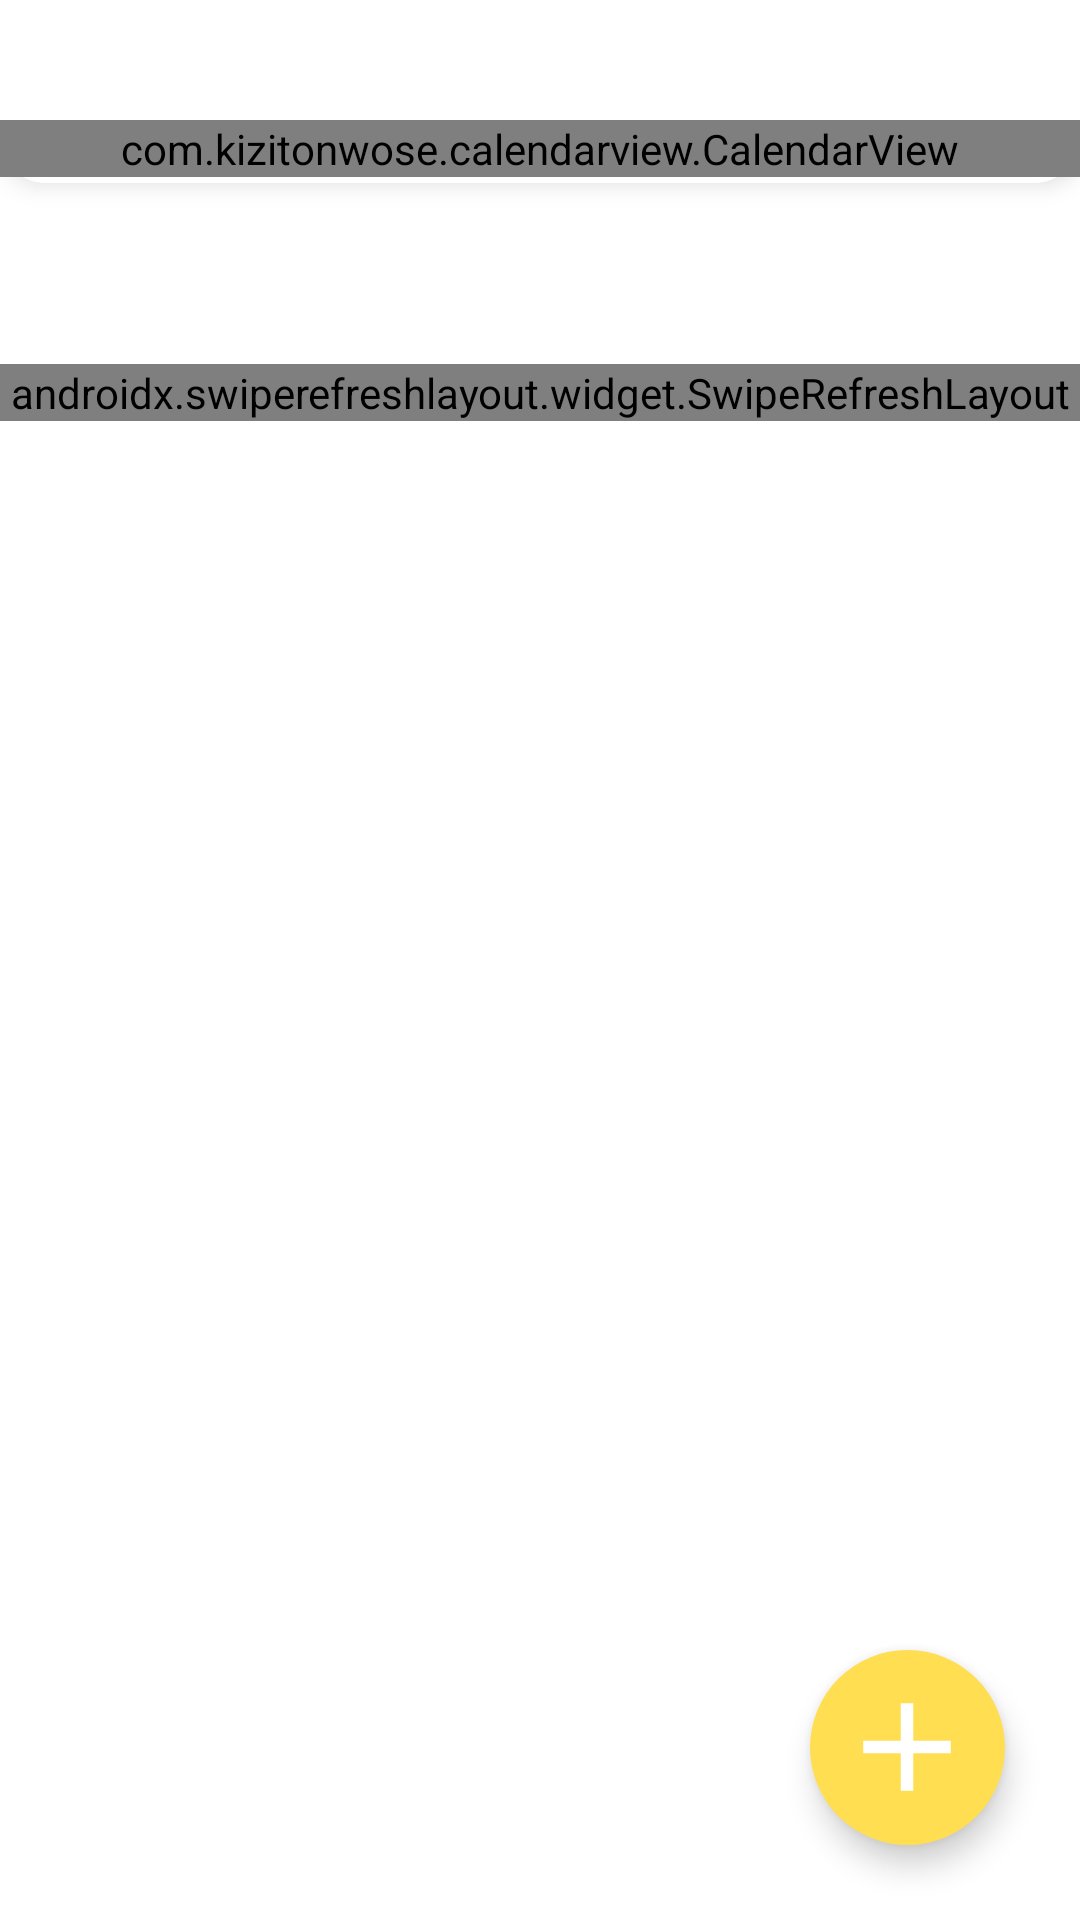

Screen size 1080px×1920px. Icon name, then its center in pixels as (x,y):
add: (907,1747)
